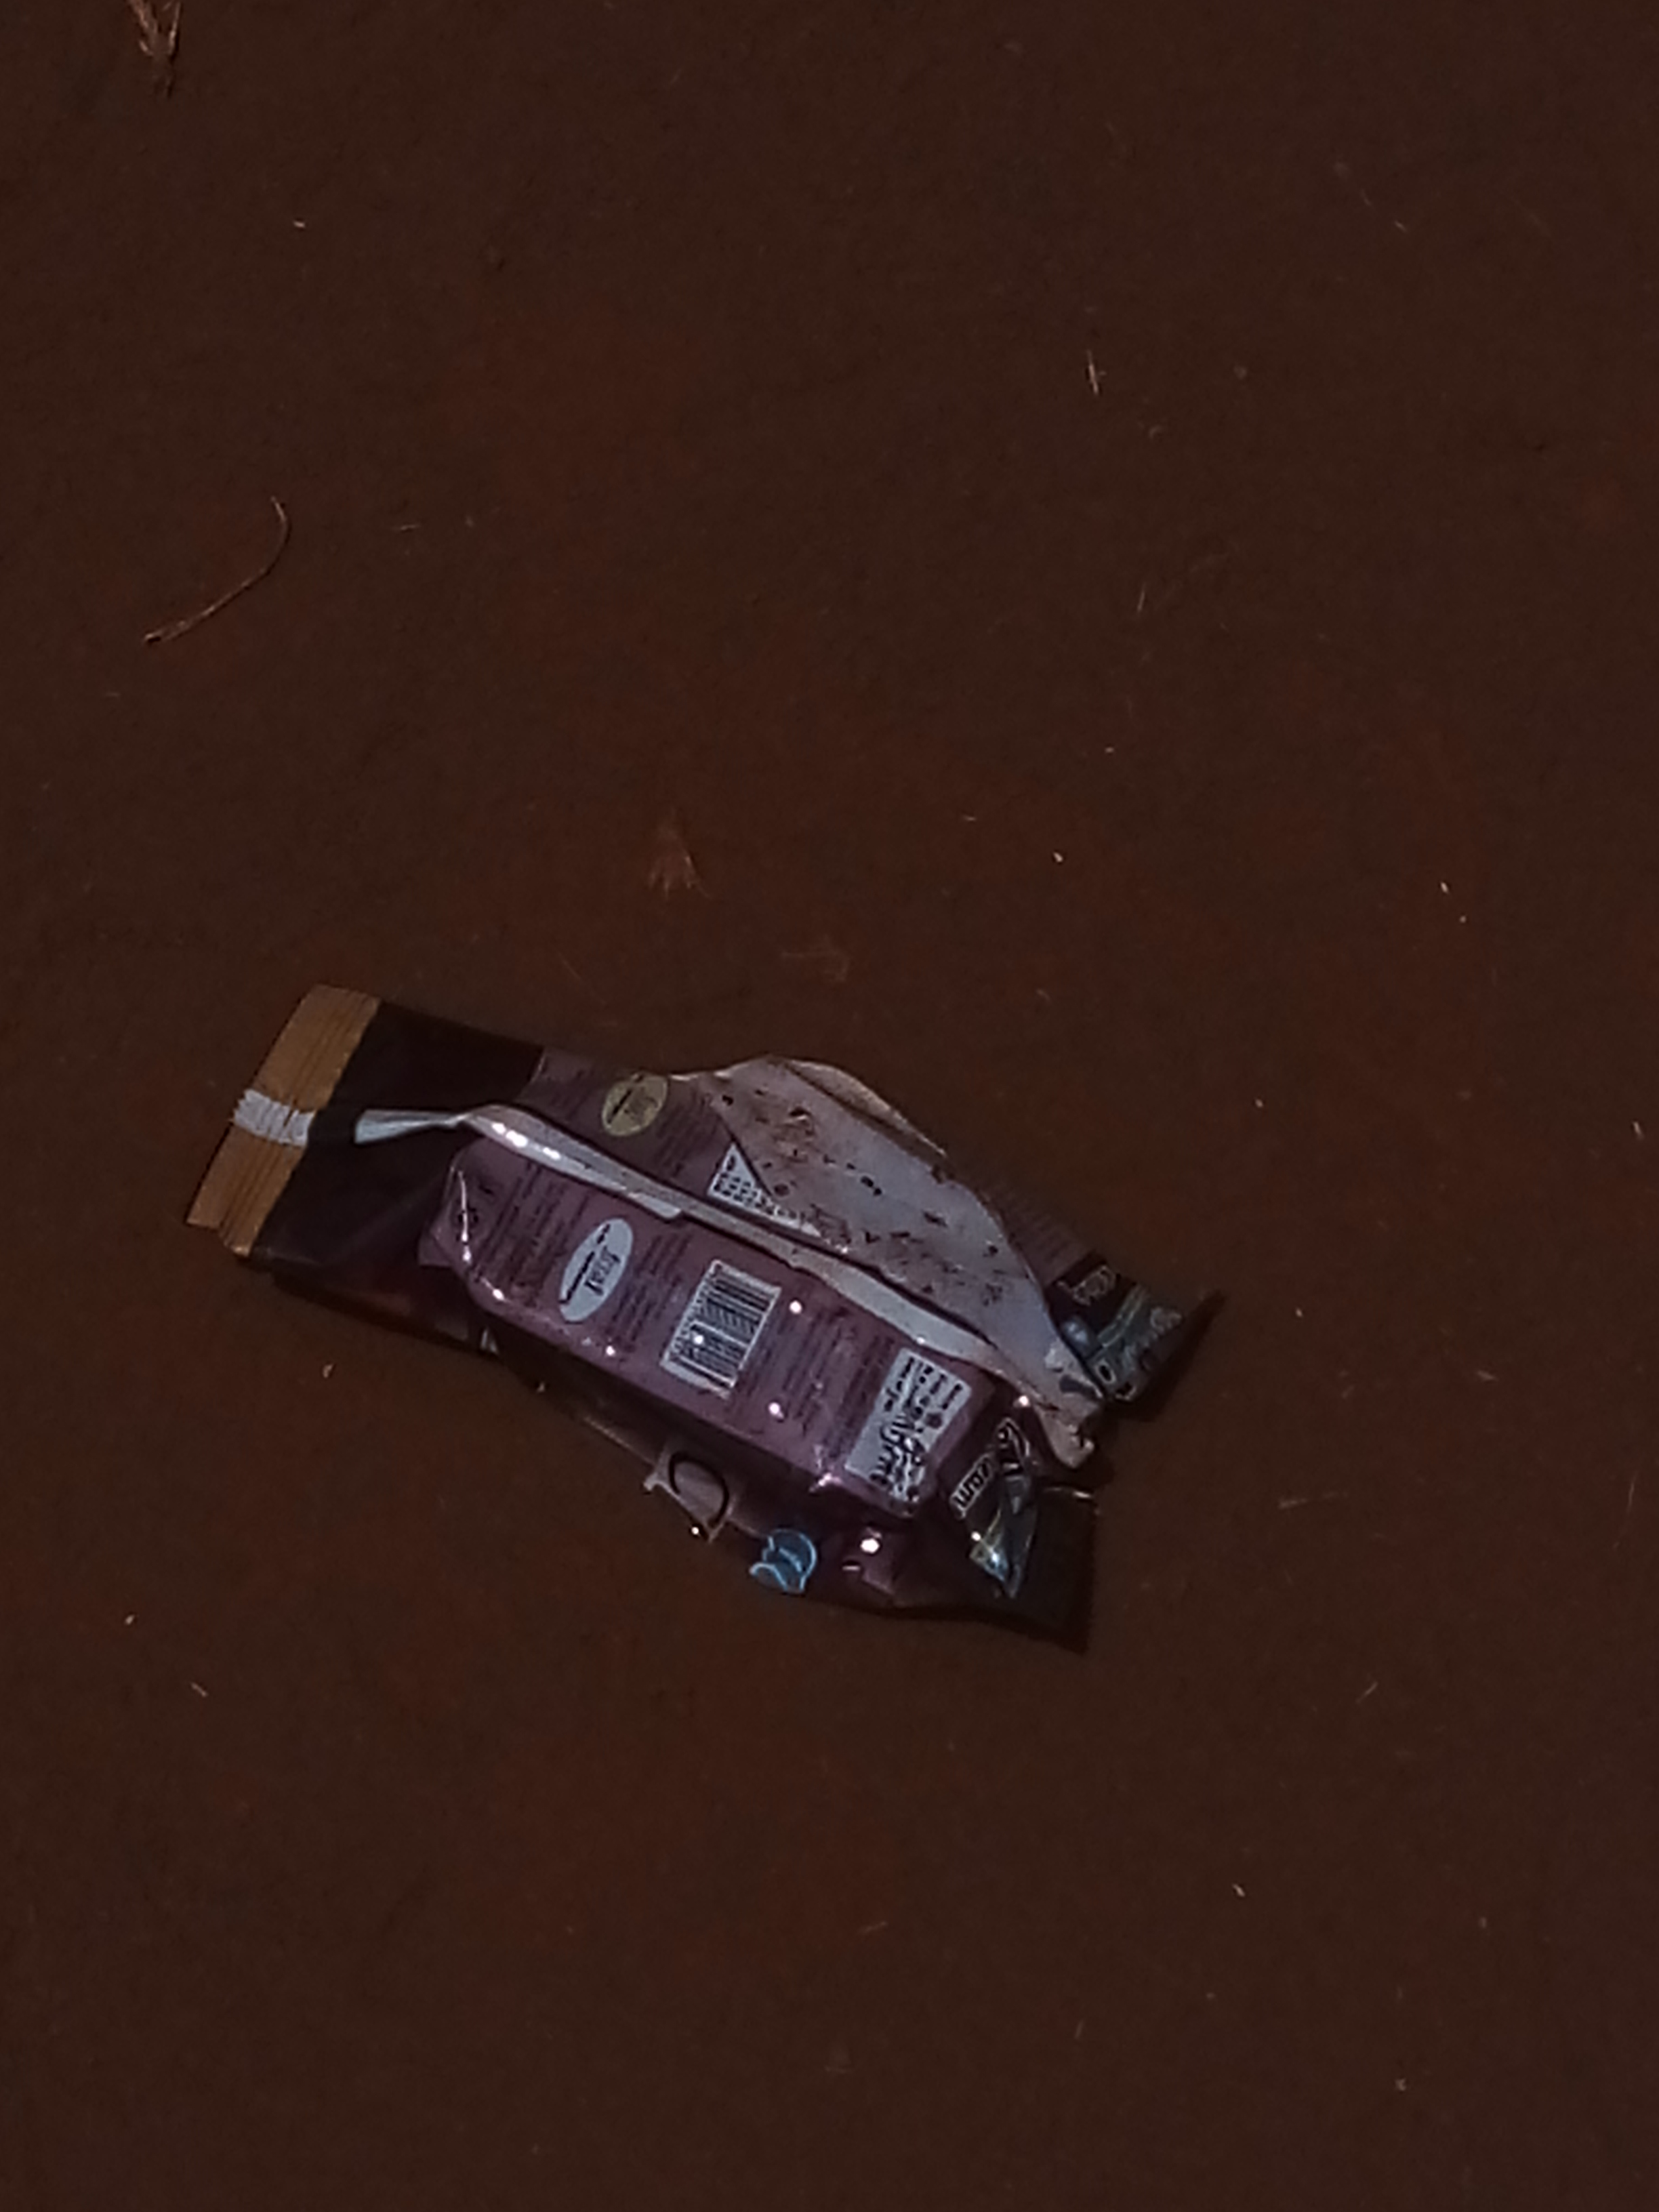pbag: (157, 1022, 1220, 1674)
